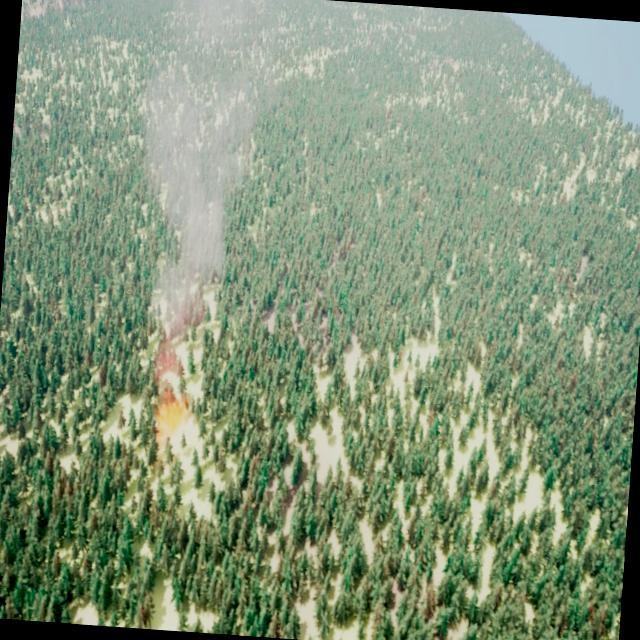fire: (154, 394, 188, 430)
smoke: (129, 0, 265, 373)
